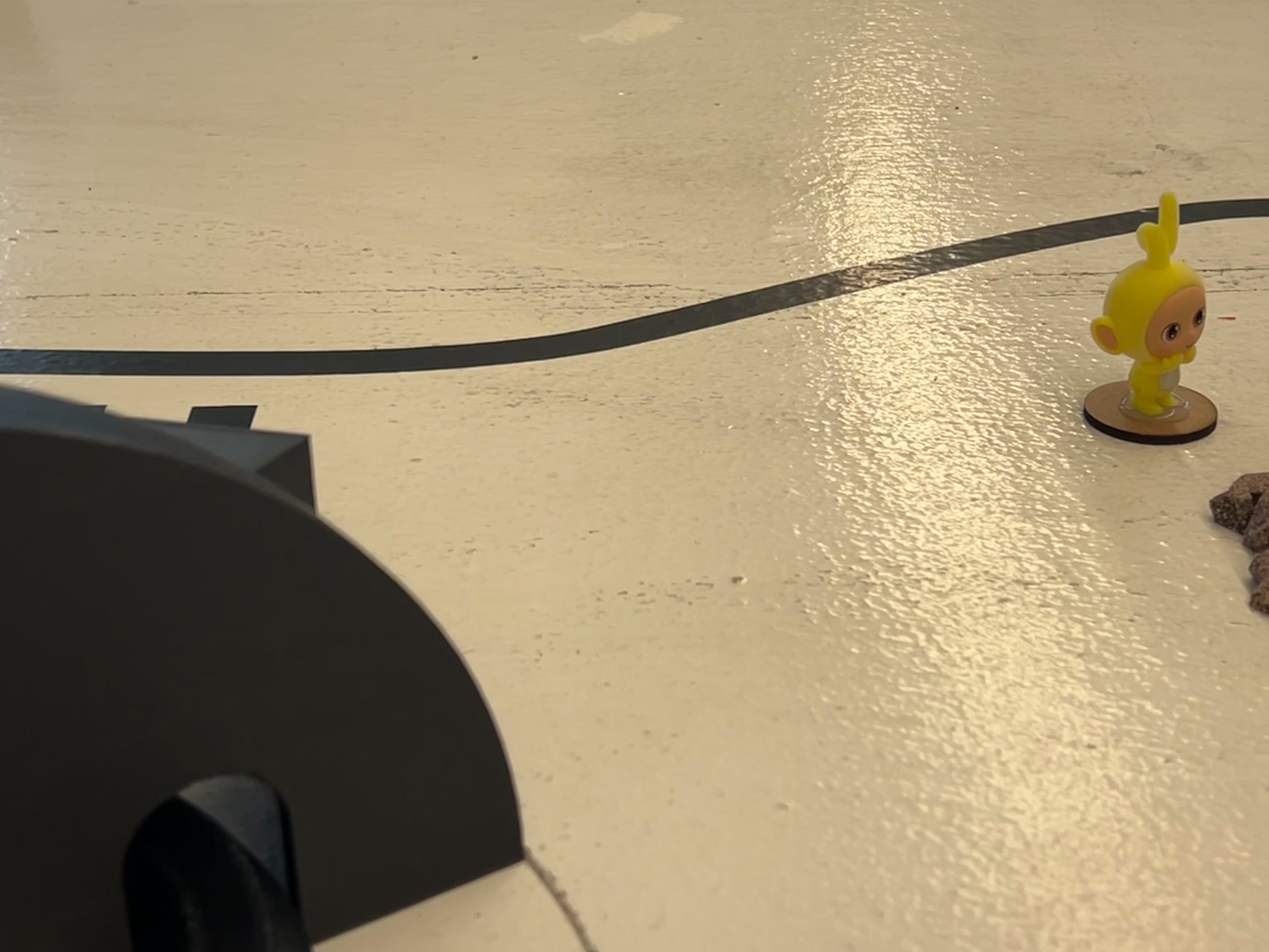teletubby: (1090, 193, 1207, 417)
